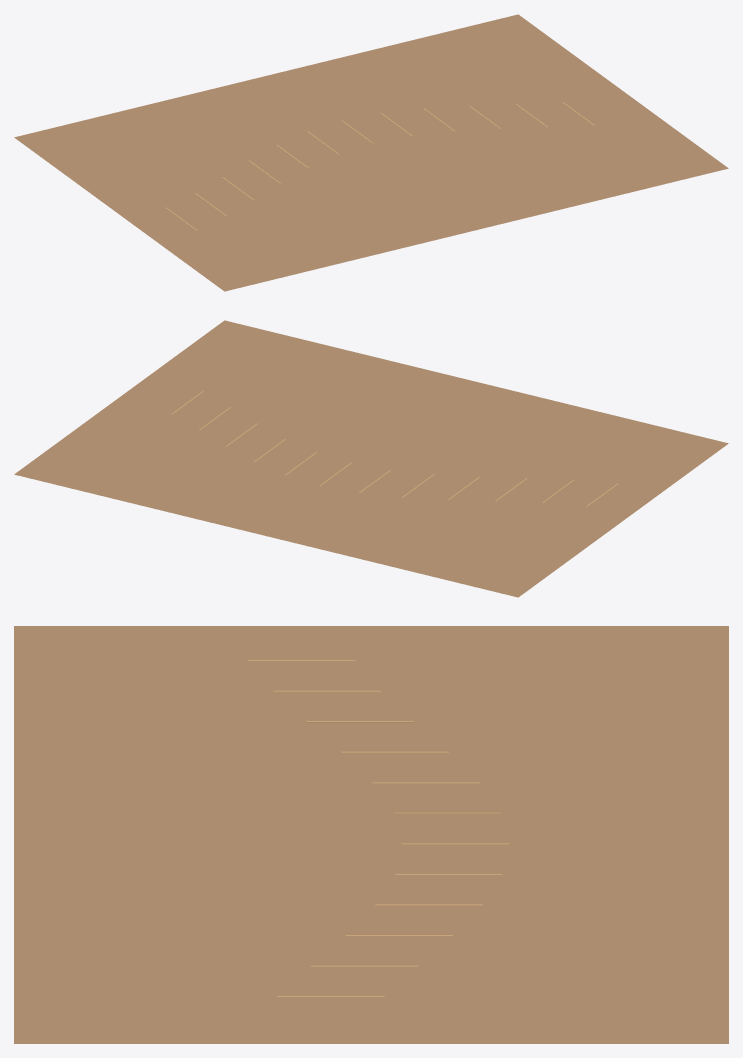
File: 278_L120_L13_LayerReference.glb
The picture shows the model from 3 angles, top to bottom: view 1: azimuth 30°, elevation 25°; view 2: azimuth 150°, elevation 25°; view 3: azimuth 270°, elevation 25°; orthographic projection. The views are drawn at different scales.
Parts seen in each view (by area): view 1: 0000__PSMAT__copper_dark; view 2: 0000__PSMAT__copper_dark; view 3: 0000__PSMAT__copper_dark.
Boxes of the visible parts, x1=… form: 0000__PSMAT__copper_dark: x1=14, y1=14, x2=728, y2=291; 0000__PSMAT__copper_dark: x1=14, y1=320, x2=728, y2=597; 0000__PSMAT__copper_dark: x1=14, y1=626, x2=728, y2=1043.
Size of the model in its own units: 0.506 by 0.000142 by 0.366.
